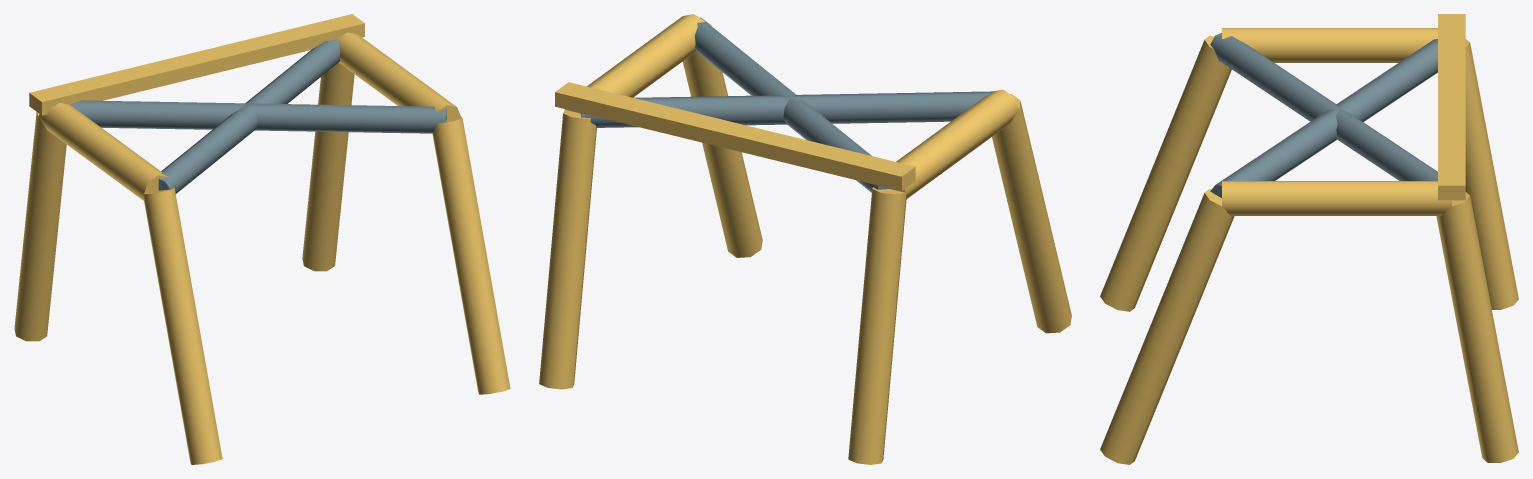
Rendered from upgrade-roll_cage.glb.
The picture shows the model from 3 angles, left to right: view 1: azimuth 30°, elevation 25°; view 2: azimuth 150°, elevation 25°; view 3: azimuth 270°, elevation 25°; orthographic projection. The views are drawn at different scales.
Parts seen in each view (by area): view 1: upgrade-roll_cage; view 2: upgrade-roll_cage; view 3: upgrade-roll_cage.
Boxes of the visible parts, x1=… form: upgrade-roll_cage: x1=14, y1=14, x2=510, y2=464; upgrade-roll_cage: x1=539, y1=14, x2=1071, y2=464; upgrade-roll_cage: x1=1100, y1=14, x2=1518, y2=464.
Bounding box in the file's own units: 1.75 × 1.35 × 1.8.
